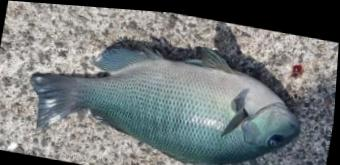fish: (30, 43, 301, 161)
